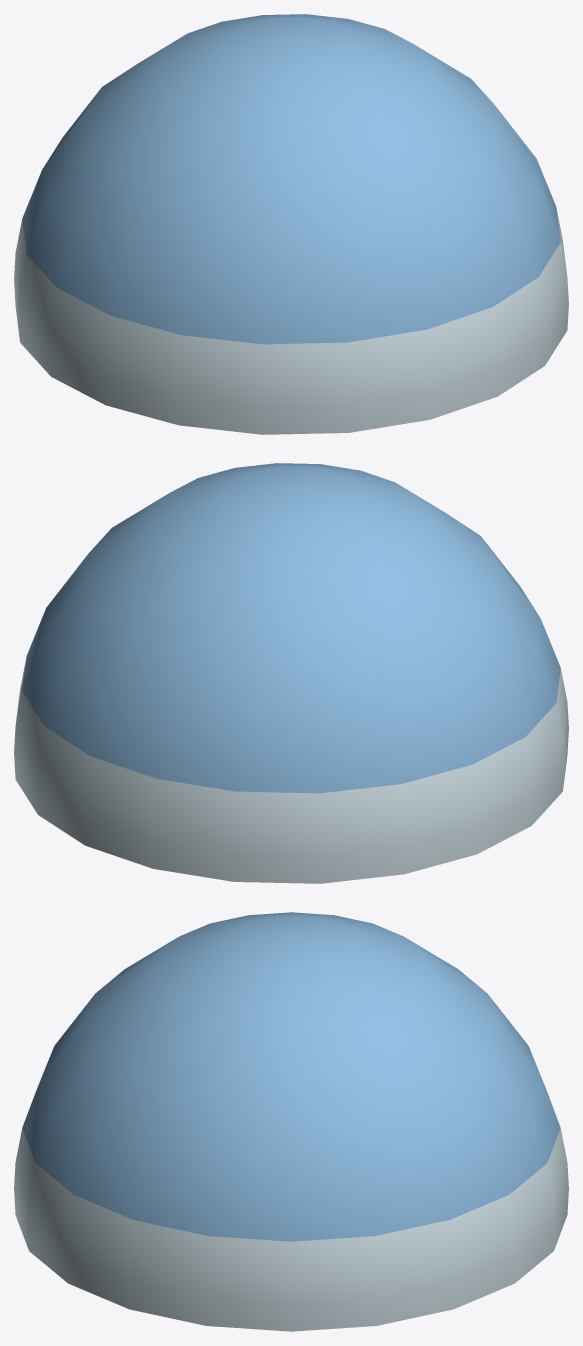
Rendered from sky_dome.glb.
The picture shows the model from 3 angles, top to bottom: view 1: azimuth 30°, elevation 25°; view 2: azimuth 150°, elevation 25°; view 3: azimuth 270°, elevation 25°; orthographic projection.
Visible parts, largest first — view 1: sky_dome; view 2: sky_dome; view 3: sky_dome.
Boxes of the visible parts, left/top/right/bottom form: sky_dome: left=14, top=14, right=568, bottom=434; sky_dome: left=14, top=463, right=568, bottom=883; sky_dome: left=14, top=912, right=568, bottom=1331.
Bounding box in the file's own units: 1600 × 884 × 1600.
